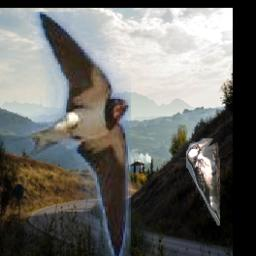Swallow: (0, 12, 131, 256)
Woodpecker: (187, 139, 221, 227)
